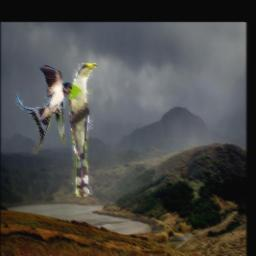Cuckoo: (70, 63, 98, 197)
Swallow: (15, 66, 73, 155)
